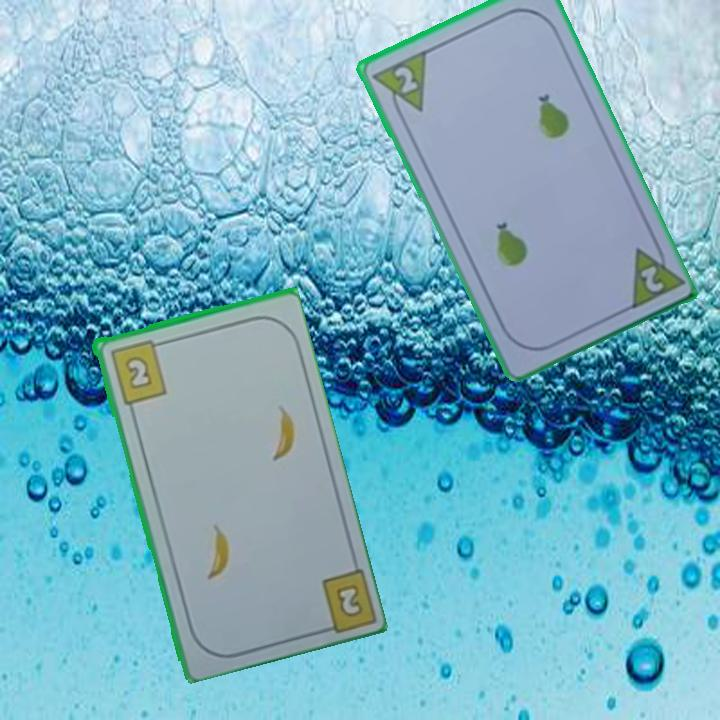2b: (312, 563, 376, 637), (106, 336, 169, 407)
2p: (367, 46, 429, 123), (636, 261, 667, 295)
